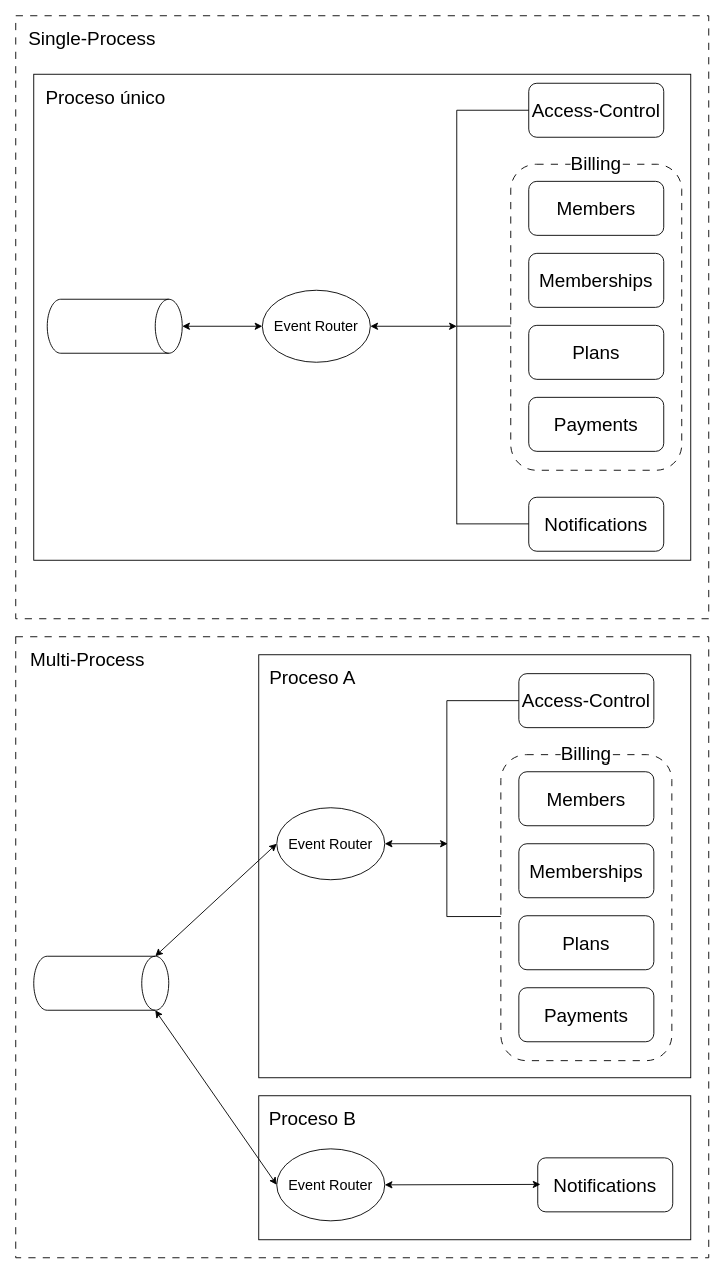
The diagram is 725 pixels wide and 1274 high, and some of its shapes have lost their labels. The centre of each missing label's shape, as x and y in pixels:
"In-Memory Event Bus" goes at (x=114, y=325).
"Redis Event Bus" goes at (x=101, y=982).
